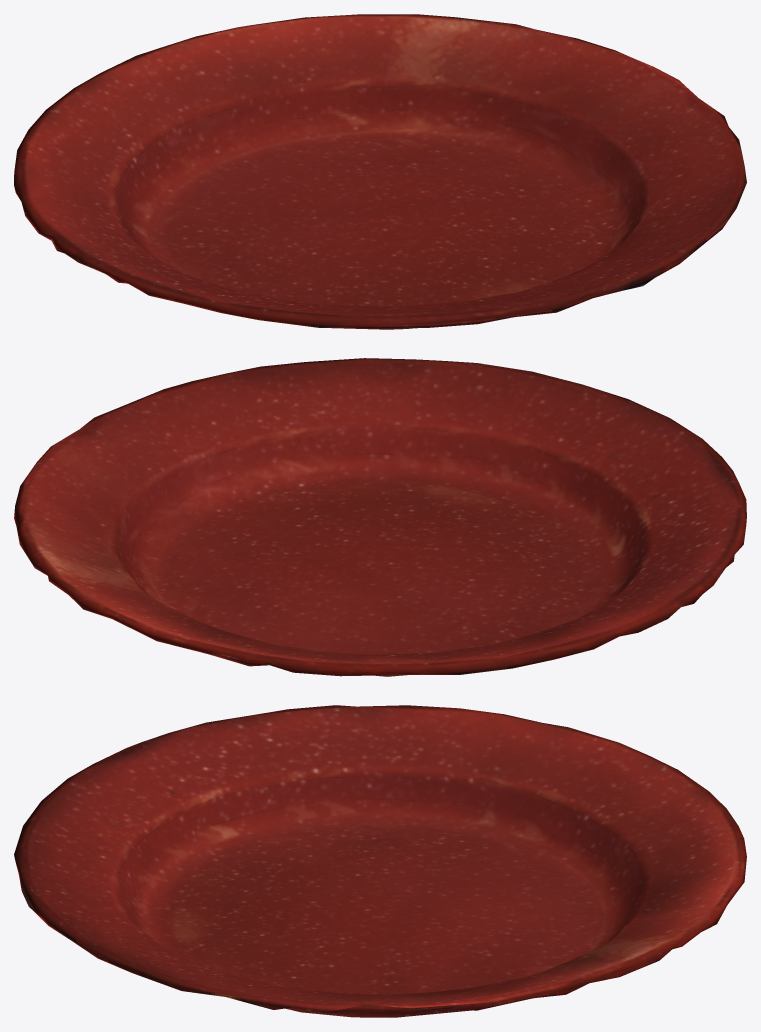
Rendered from red_spotted_plate.dae.
3 views of the same model, one above another, from view 1: azimuth 30°, elevation 25°; view 2: azimuth 150°, elevation 25°; view 3: azimuth 270°, elevation 25° (orthographic).
Parts seen in each view (by area): view 1: Scan_PIVOT; view 2: Scan_PIVOT; view 3: Scan_PIVOT.
Part boxes in pixels (box(x1,y1,x2,y2)): Scan_PIVOT: box(14, 14, 746, 329); Scan_PIVOT: box(14, 358, 746, 676); Scan_PIVOT: box(14, 705, 746, 1017).
Bounding box in the file's own units: 0.2595 × 0.2607 × 0.0277.
